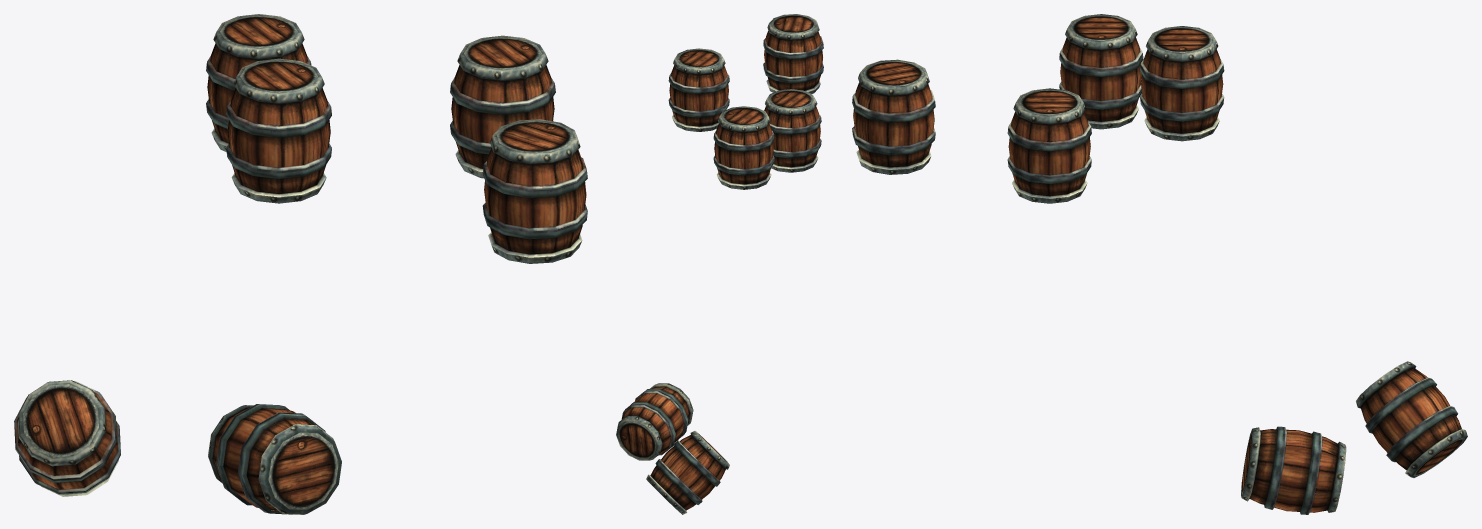
File: PUSH5_BARRELS.fbx
The picture shows the model from 3 angles, left to right: view 1: azimuth 30°, elevation 25°; view 2: azimuth 150°, elevation 25°; view 3: azimuth 270°, elevation 25°; orthographic projection. The views are drawn at different scales.
Visible parts, largest first — view 1: PUSH5_BARRELS; view 2: PUSH5_BARRELS; view 3: PUSH5_BARRELS.
Boxes of the visible parts, bbox=[...] form: PUSH5_BARRELS: bbox=[14, 14, 587, 514]; PUSH5_BARRELS: bbox=[616, 14, 823, 514]; PUSH5_BARRELS: bbox=[852, 14, 1467, 514].
Bounding box in the file's own units: 26701 × 46717 × 57507.
2 materials, 2 textured.
